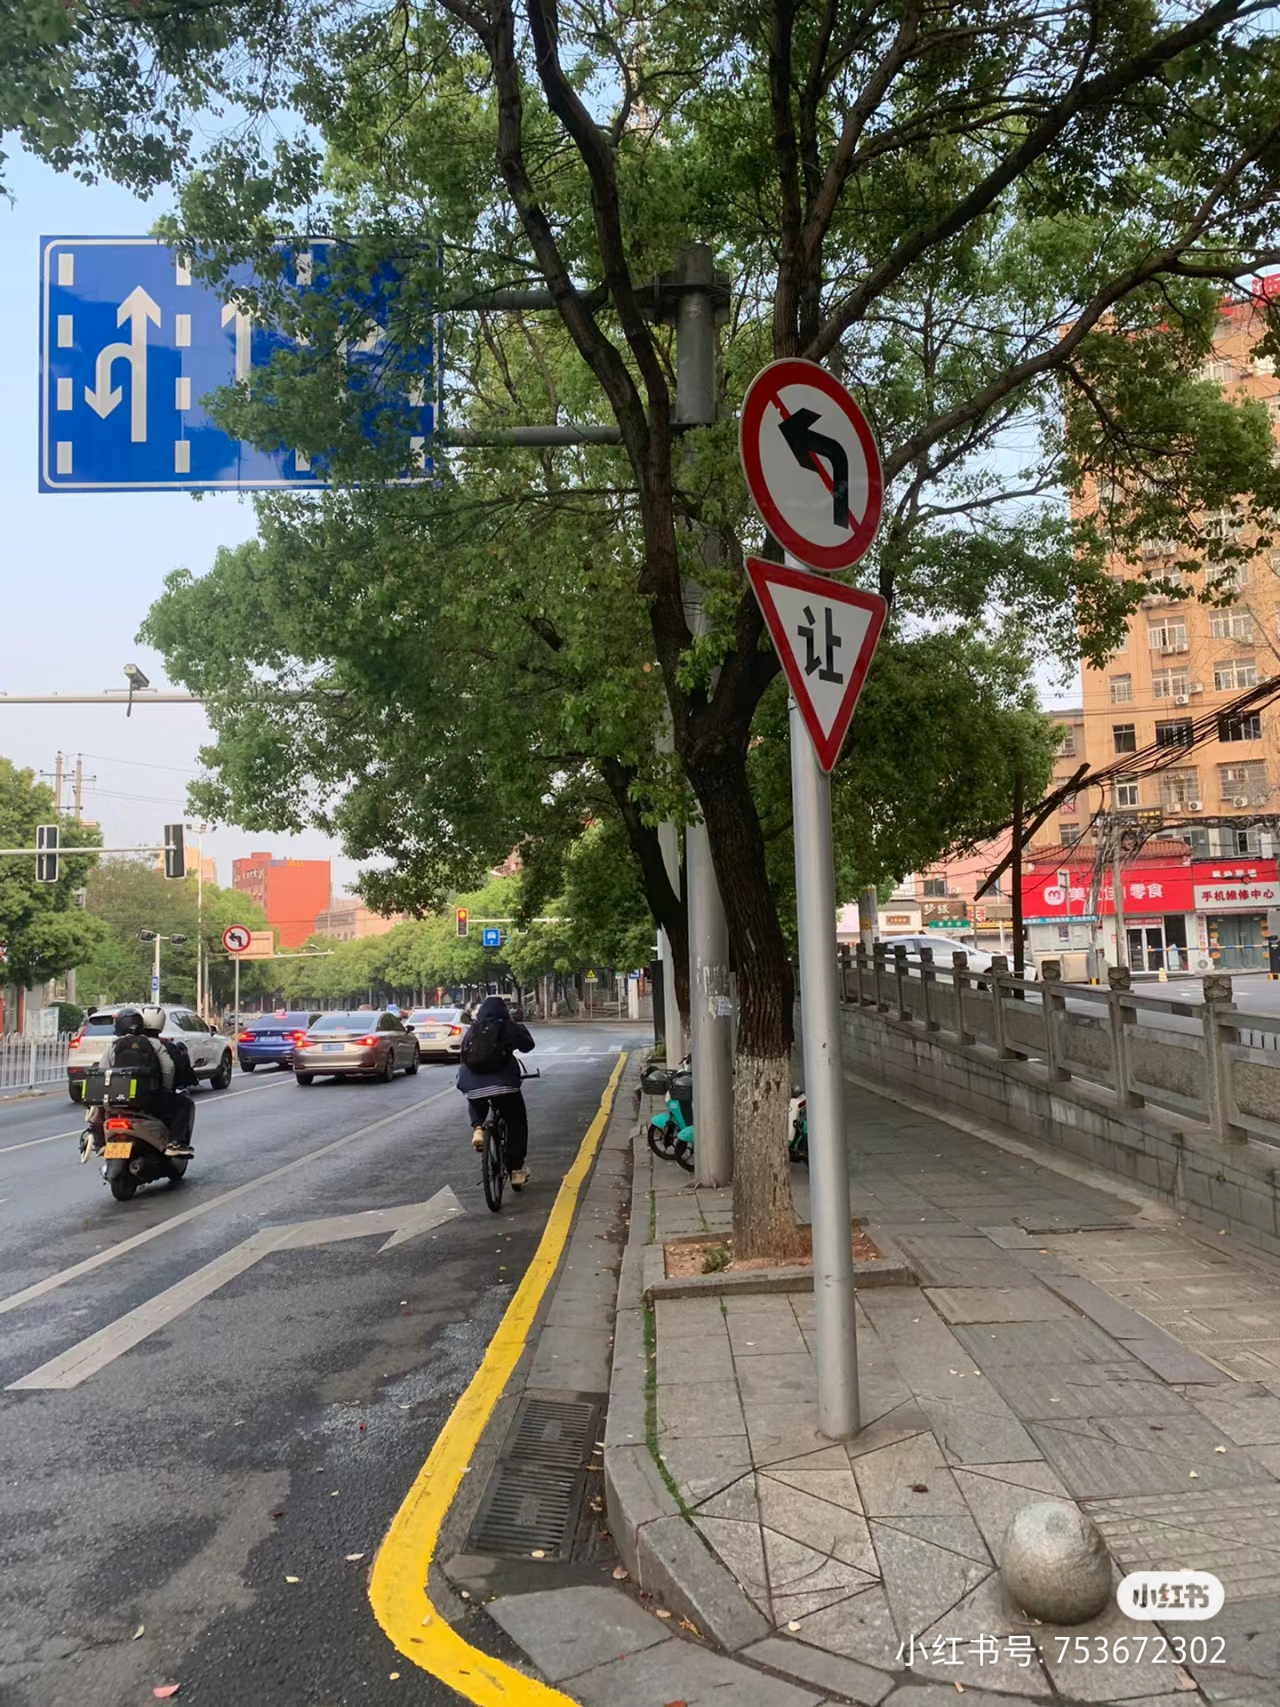p23: (741, 366, 887, 566), (221, 925, 255, 953)
pg: (735, 569, 890, 767)
